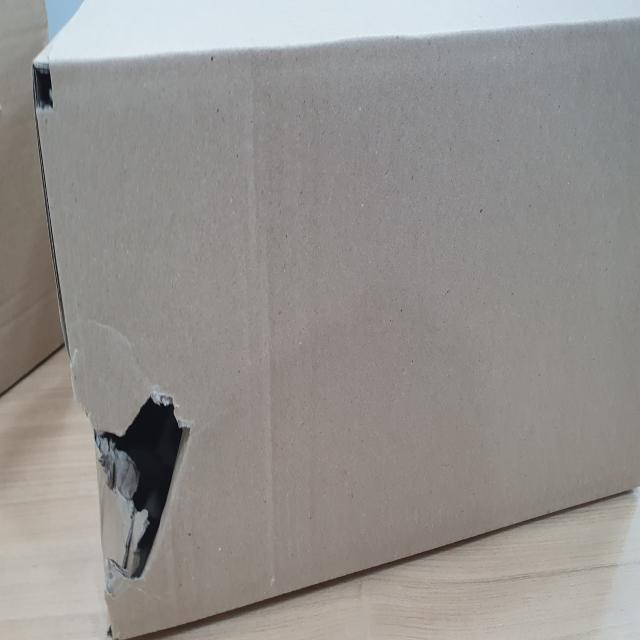hole: (86, 375, 194, 579)
